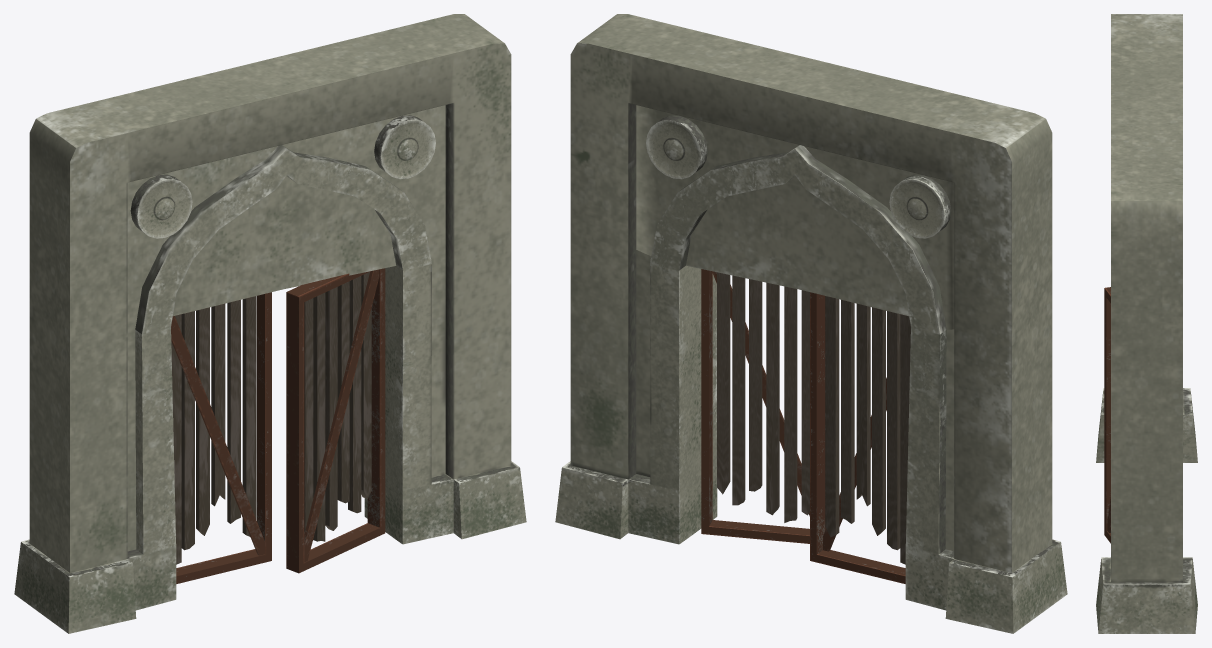
Rendered from ZYOUMON.fbx.
The picture shows the model from 3 angles, left to right: view 1: azimuth 30°, elevation 25°; view 2: azimuth 150°, elevation 25°; view 3: azimuth 270°, elevation 25°; orthographic projection. The views are drawn at different scales.
Parts seen in each view (by area): view 1: ZYOUMON, pCube61, pCube60, pCube54 (×2), pCube57 (×2), pCube58 (×2), pCube56 (×2), pCube55 (×2), pCube53 (×2), pCylinder3, pCylinder4; view 2: ZYOUMON, pCube54 (×2), pCube57 (×2), pCube56 (×2), pCube55 (×2), pCube60, pCube61, pCube58 (×2), pCube53 (×2), pCylinder4, pCylinder3; view 3: ZYOUMON, pCube61.
Boxes of the visible parts, <box> form: ZYOUMON: <box>14,14,526,633</box>; pCube61: <box>286,268,385,573</box>; pCube60: <box>171,292,271,583</box>; pCube54 (×2): <box>181,276,361,550</box>; pCube57 (×2): <box>227,293,325,541</box>; pCube58 (×2): <box>242,296,313,536</box>; pCube56 (×2): <box>211,287,337,530</box>; pCube55 (×2): <box>196,281,349,535</box>; pCube53 (×2): <box>171,272,371,564</box>; pCylinder3: <box>130,174,192,238</box>; pCylinder4: <box>374,115,435,179</box>; ZYOUMON: <box>555,14,1067,633</box>; pCube54 (×2): <box>732,275,900,550</box>; pCube57 (×2): <box>784,286,854,523</box>; pCube56 (×2): <box>766,282,870,515</box>; pCube55 (×2): <box>749,279,885,535</box>; pCube60: <box>810,292,905,583</box>; pCube61: <box>701,269,825,543</box>; pCube58 (×2): <box>801,290,839,537</box>; pCube53 (×2): <box>717,272,910,564</box>; pCylinder4: <box>646,115,707,179</box>; pCylinder3: <box>889,174,951,238</box>; ZYOUMON: <box>1096,14,1197,633</box>; pCube61: <box>1104,287,1110,543</box>.
Bounding box in the file's own units: 114 × 114 × 24.61.
